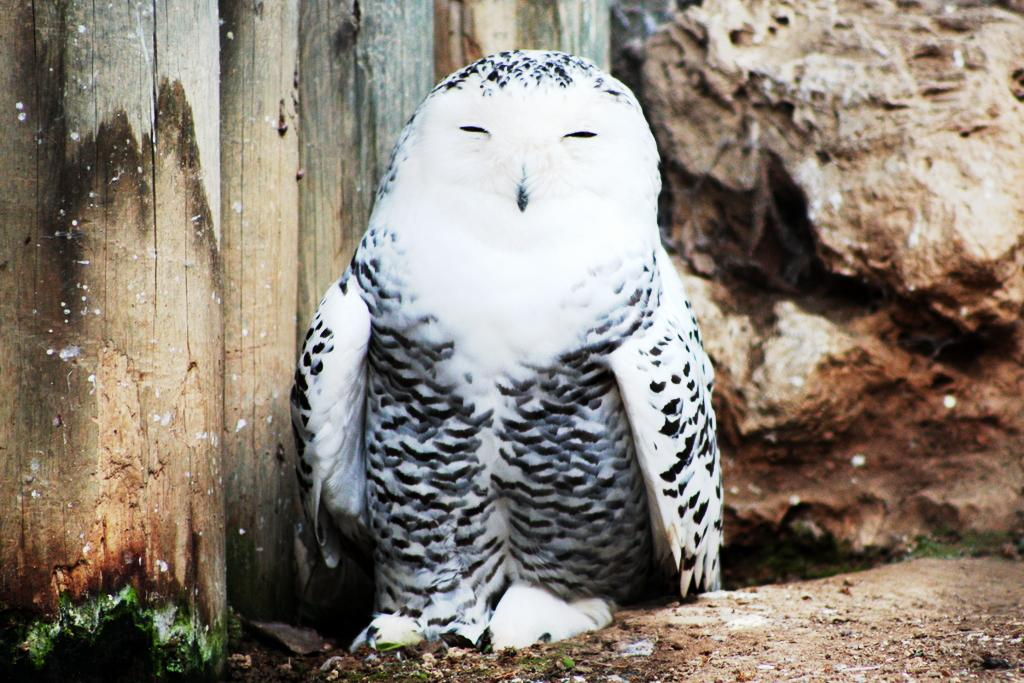Owl: (288, 49, 726, 653)
